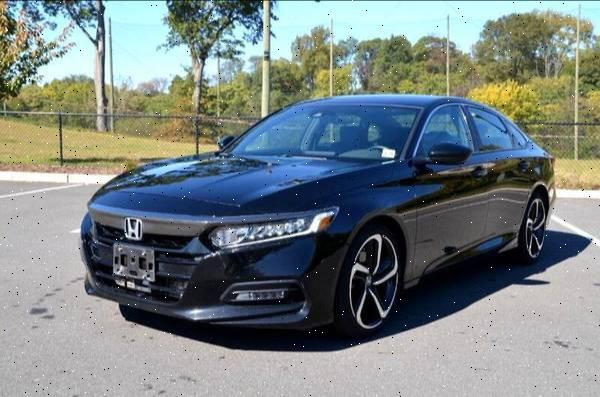Front_Bumper: (170, 233, 347, 339)
Front_Fender: (265, 162, 418, 286)
Front_Left_Door: (411, 151, 488, 288)
Front_Left_Window: (409, 103, 477, 162)
Front_Windshield: (214, 105, 417, 165)
Grille: (82, 215, 213, 314)
Hood: (86, 146, 402, 236)
Left_Headlight: (203, 208, 338, 252)
Rear_Fender: (534, 145, 556, 215)
Rear_Left_Door: (484, 144, 537, 252)
Rear_Left_Window: (465, 106, 530, 154)
Roof: (292, 93, 533, 160)
Wheel: (341, 223, 407, 337), (521, 191, 550, 260)
